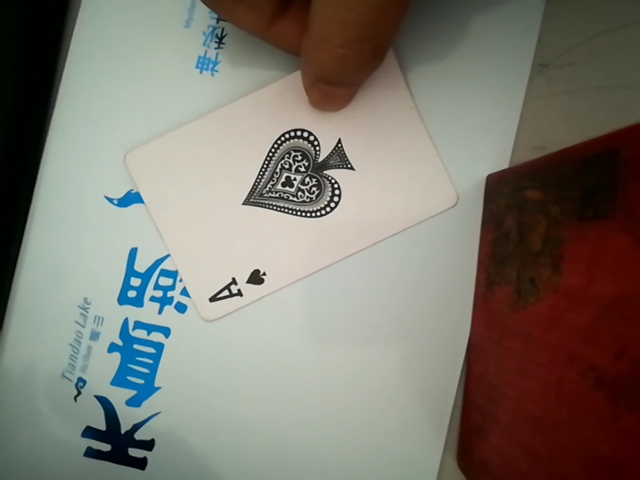ht a: (151, 50, 447, 327)
